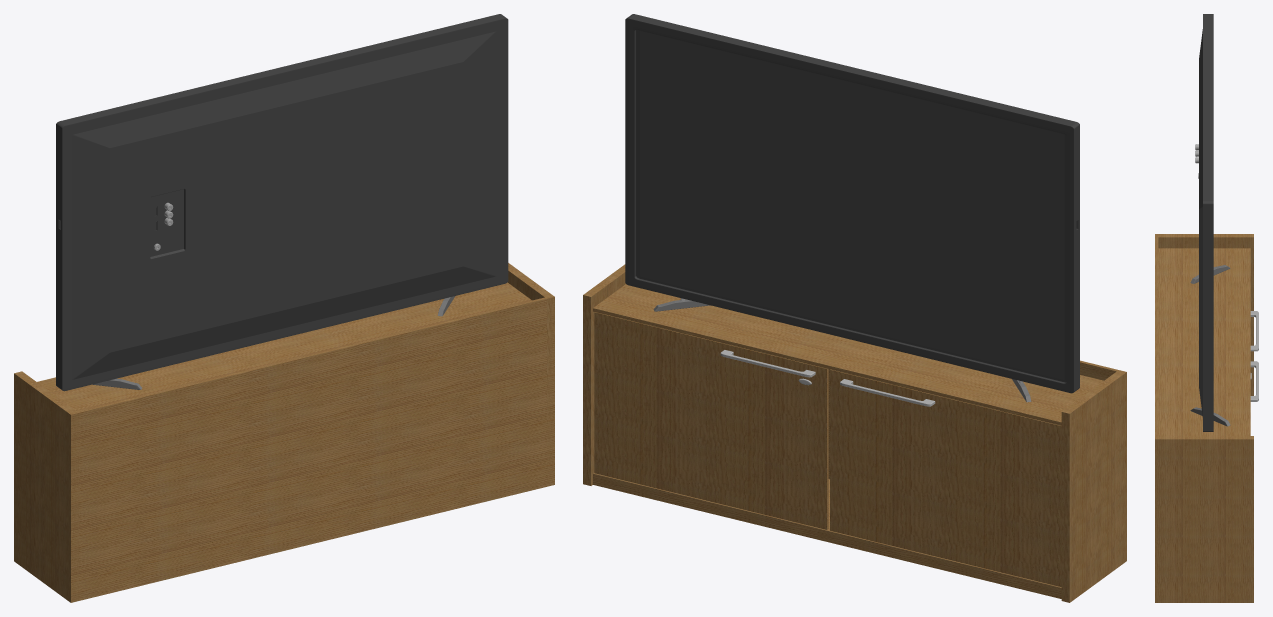
The model's file is mueblecitoTele.fbx.
The picture shows the model from 3 angles, left to right: view 1: azimuth 30°, elevation 25°; view 2: azimuth 150°, elevation 25°; view 3: azimuth 270°, elevation 25°; orthographic projection. The views are drawn at different scales.
Visible parts, largest first — view 1: Rectangle10; view 2: Rectangle10; view 3: Rectangle10.
Boxes of the visible parts, x1,y1,x2,y2 form: Rectangle10: [14, 14, 554, 602]; Rectangle10: [583, 14, 1126, 602]; Rectangle10: [1155, 14, 1258, 602].
Bounding box in the file's own units: 2.17 × 1.93 × 0.4641.
Materials: 7 (1 with a texture image).
